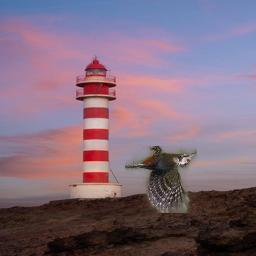Woodpecker: (125, 147, 197, 214)
